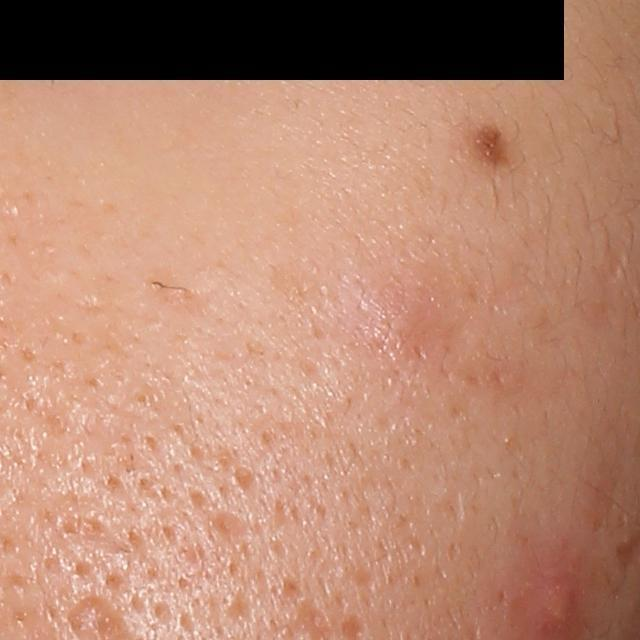atrophic_scar: (205, 511, 250, 550), (434, 483, 467, 520)
nevus: (473, 121, 510, 173)
papule: (533, 577, 587, 637)
